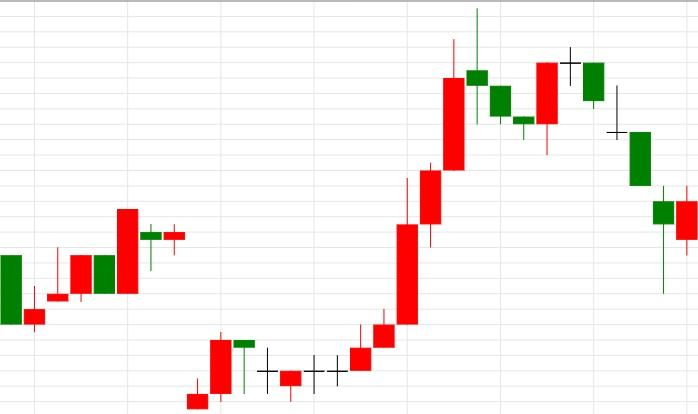bullish_engulfing_rise: (466, 8, 559, 155)
hammer_rise: (559, 47, 675, 294)
three_black_crows_fall: (279, 8, 536, 401)
